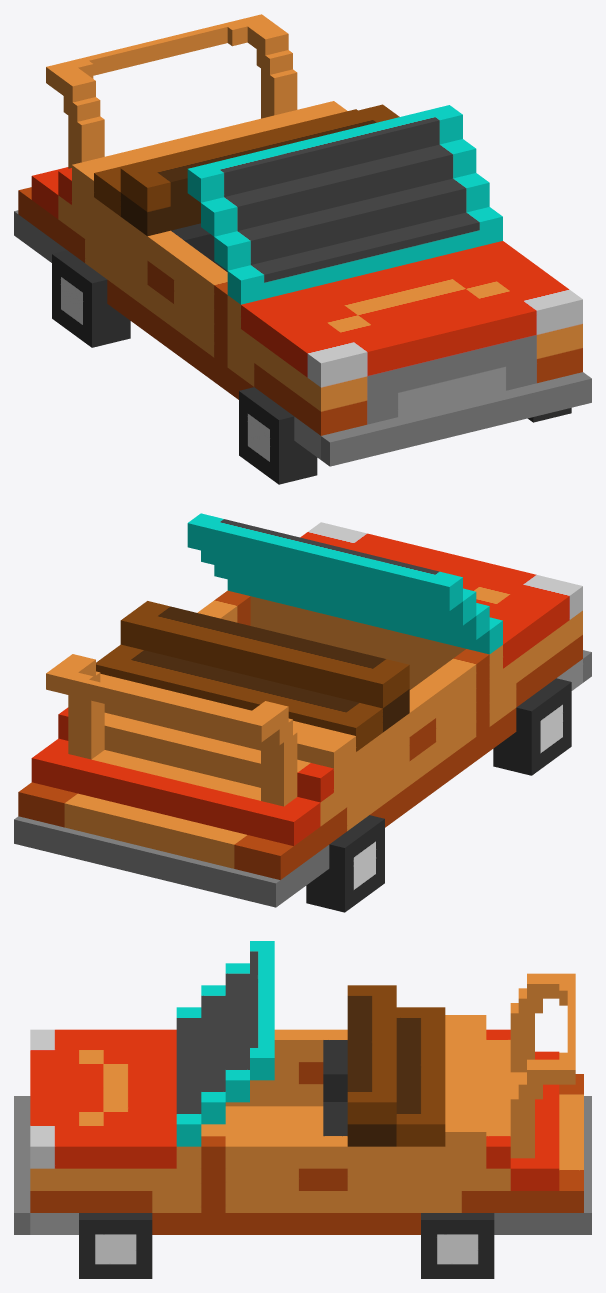
Rendered from Character_13.fbx.
The picture shows the model from 3 angles, top to bottom: view 1: azimuth 30°, elevation 25°; view 2: azimuth 150°, elevation 25°; view 3: azimuth 270°, elevation 25°; orthographic projection. The views are drawn at different scales.
Parts seen in each view (by area): view 1: Character_13; view 2: Character_13; view 3: Character_13.
Boxes of the visible parts, left/top/right/bottom form: Character_13: left=14, top=14, right=591, bottom=484; Character_13: left=14, top=513, right=591, bottom=912; Character_13: left=14, top=941, right=591, bottom=1278.
Size of the model in its own units: 38 by 29 by 71.
